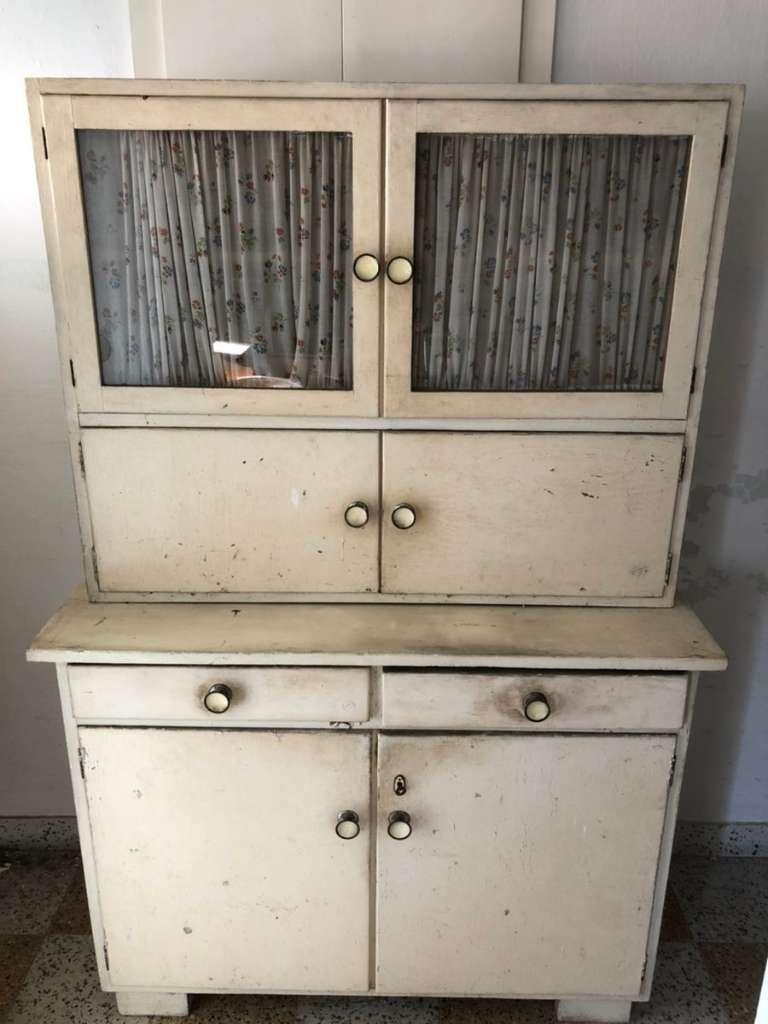cabinet_door: (387, 103, 720, 420), (57, 102, 382, 418), (379, 743, 657, 995), (97, 739, 363, 985), (90, 428, 383, 590), (385, 436, 680, 594), (76, 662, 365, 727), (390, 672, 682, 733)
handle: (382, 807, 417, 853), (515, 692, 558, 728), (389, 490, 418, 543), (343, 490, 370, 543), (387, 253, 416, 297), (352, 250, 380, 292), (335, 804, 359, 851), (204, 685, 232, 724)
